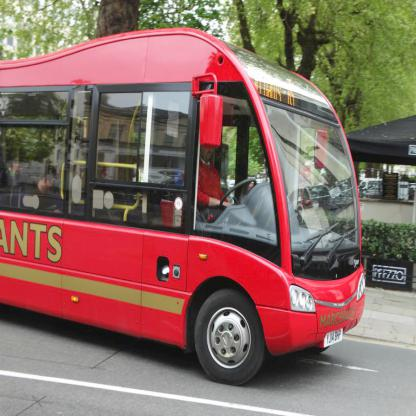Bus: (0, 28, 366, 385)
